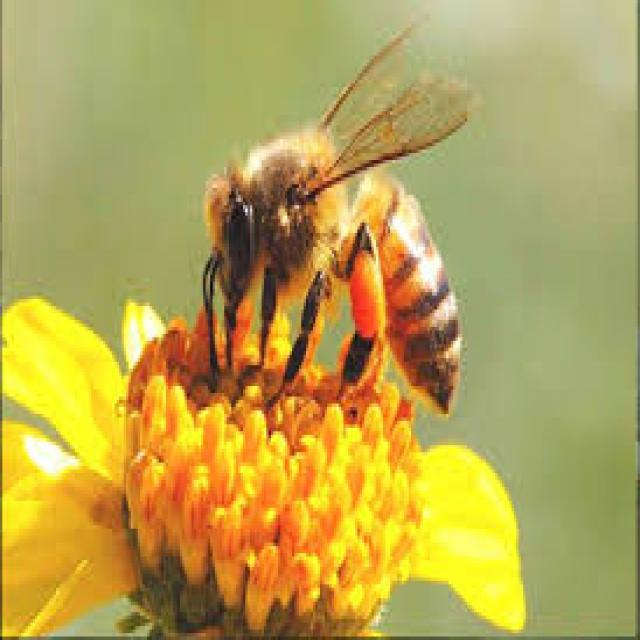Bees: (201, 17, 482, 423)
